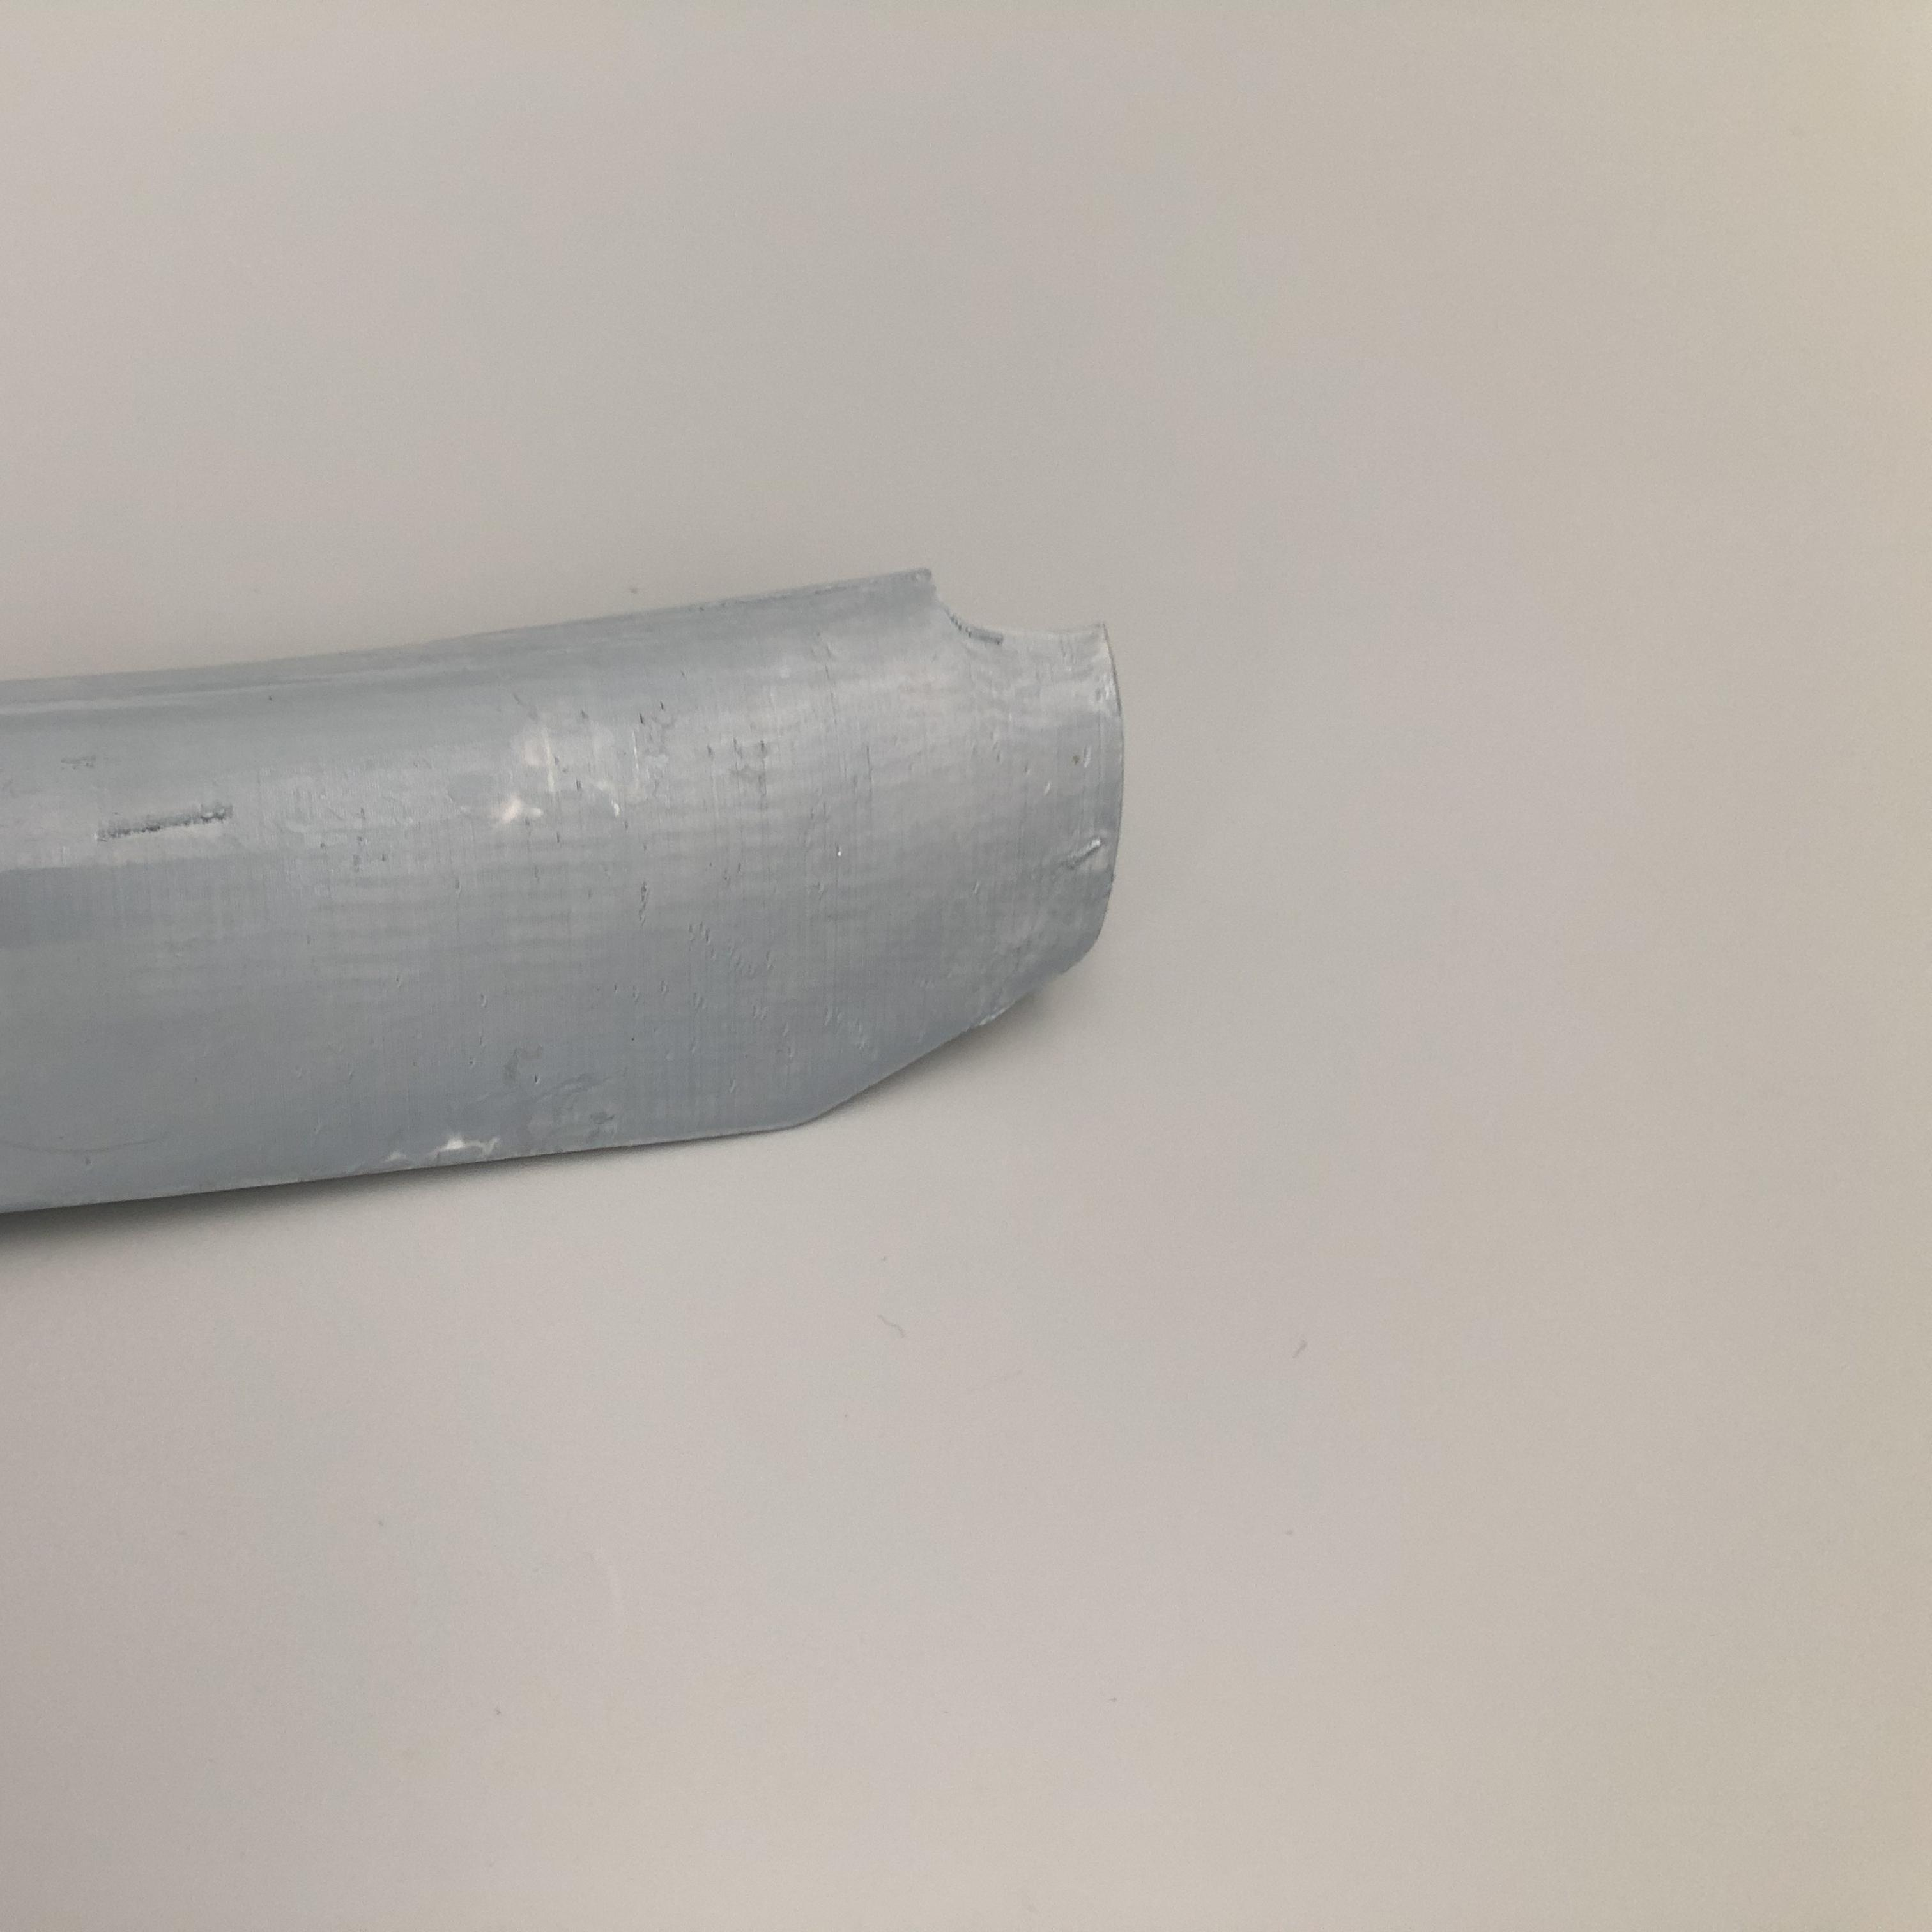fracture: (915, 570, 1090, 667)
